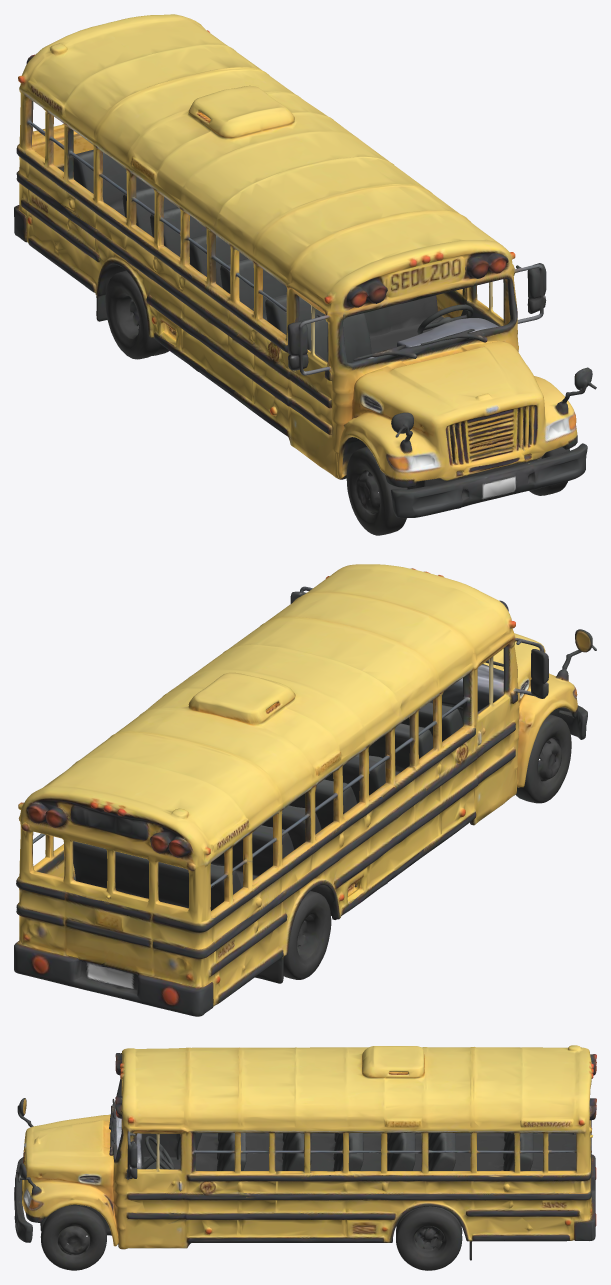
File: 053_school_bus_yellow.glb
3 views of the same model, one above another, from view 1: azimuth 30°, elevation 25°; view 2: azimuth 150°, elevation 25°; view 3: azimuth 270°, elevation 25° (orthographic). The views are drawn at different scales.
Parts seen in each view (by area): view 1: geometry_0; view 2: geometry_0; view 3: geometry_0.
Boxes of the visible parts, x1,y1,x2,y2 form: geometry_0: (14, 14, 596, 535); geometry_0: (14, 564, 596, 1016); geometry_0: (14, 1045, 596, 1270).
Bounding box in the file's own units: 4.11 × 3.85 × 11.
1 material, 1 textured.
